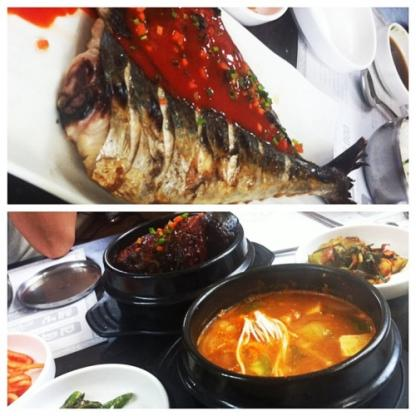Peixe: (30, 5, 384, 207)
